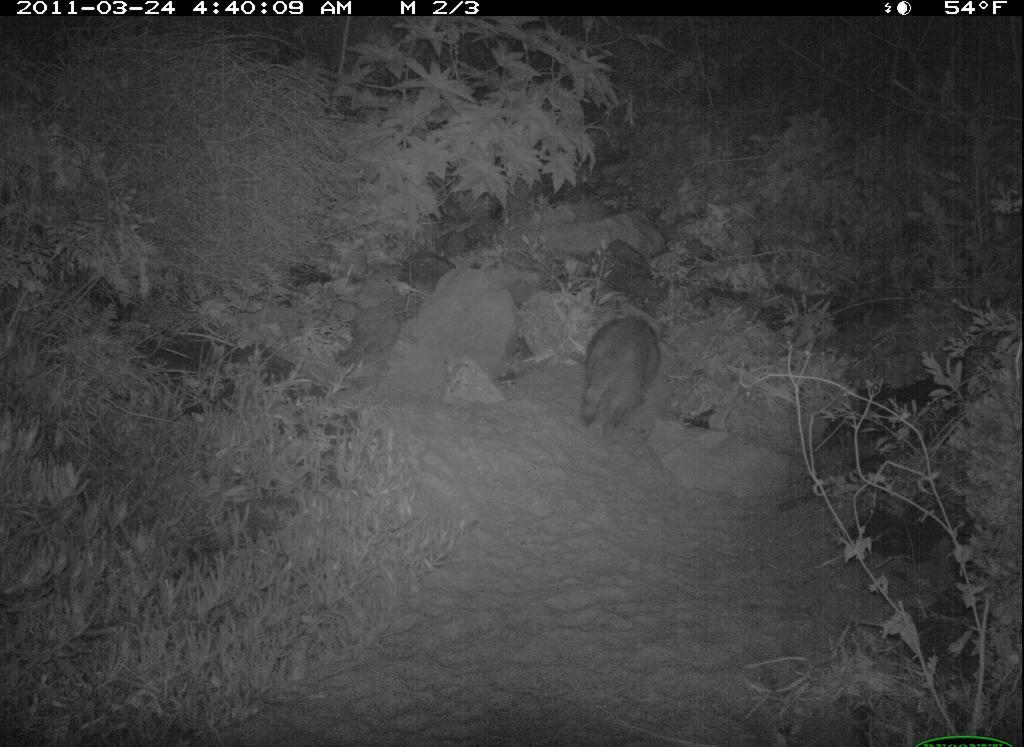raccoon: (576, 311, 668, 443)
